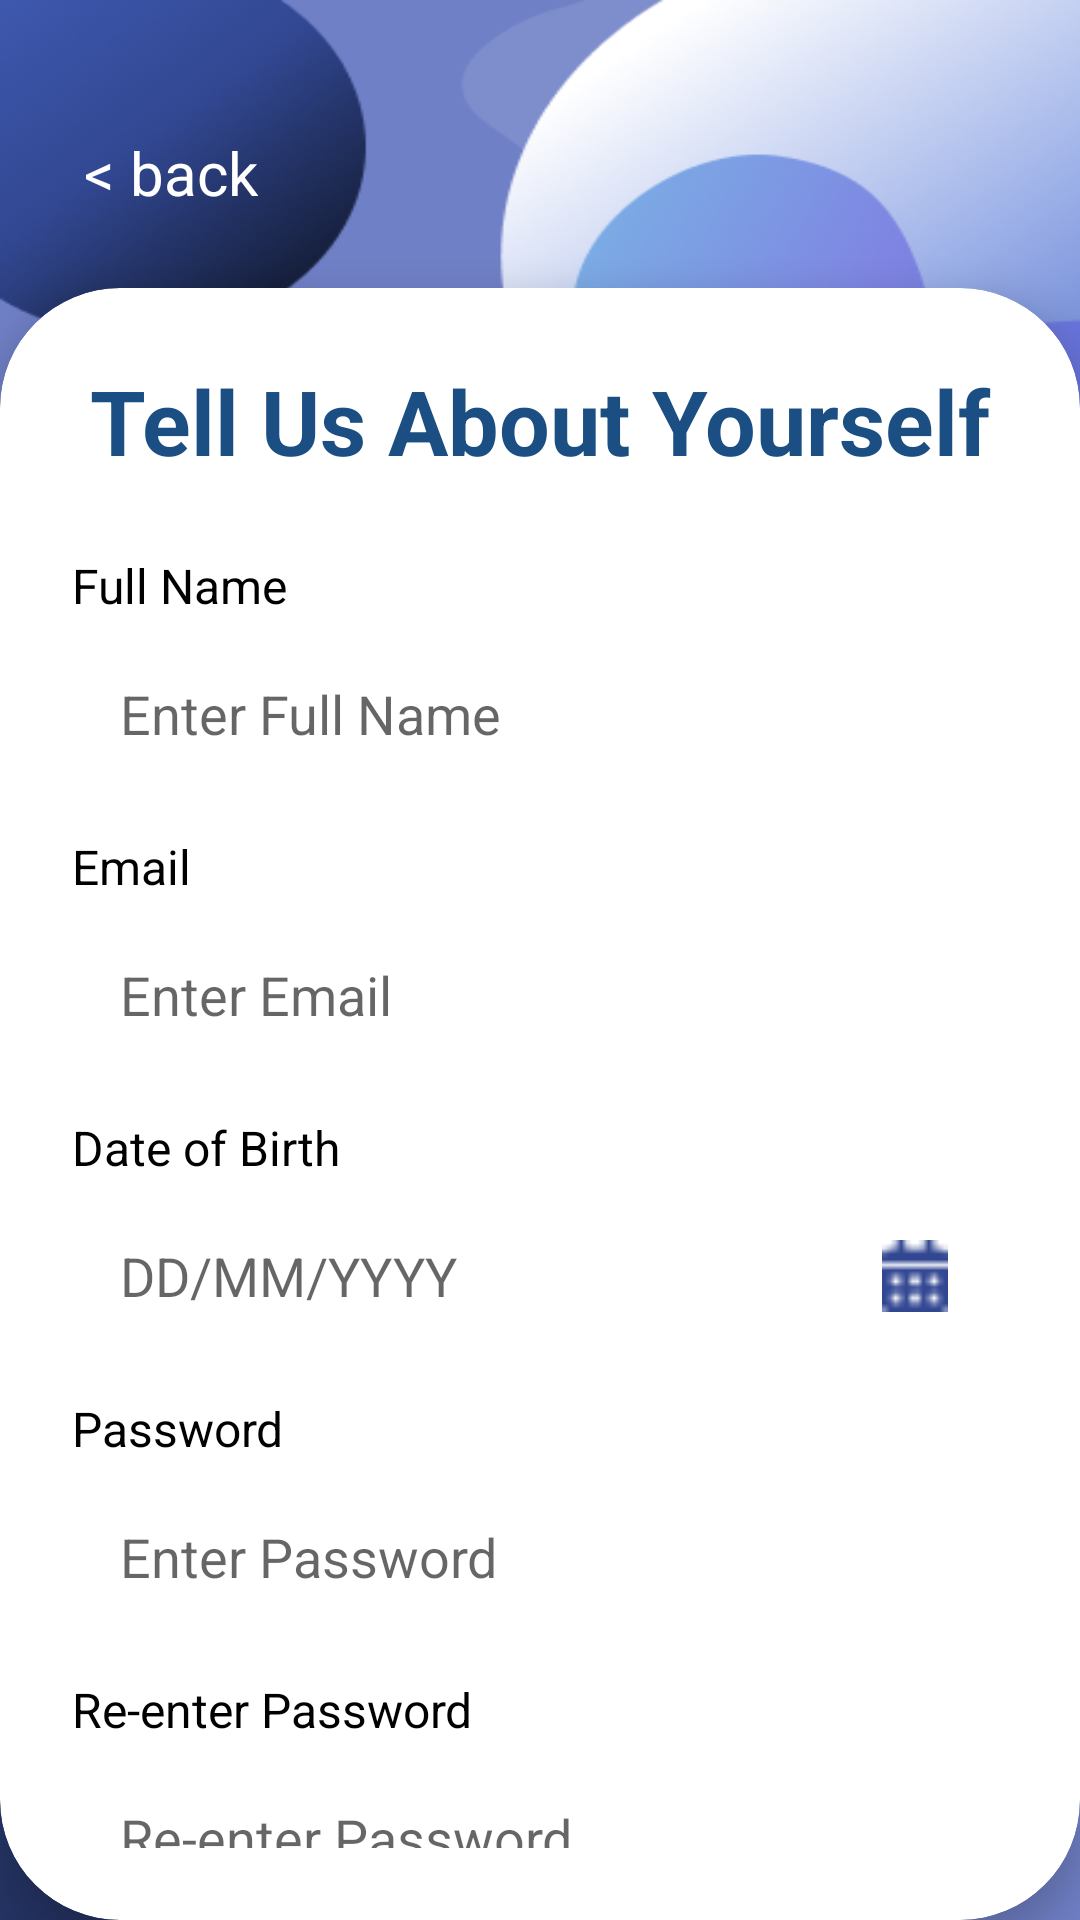

Where to tap for icons on this 1080x1920 app screen, as (x,y):
Calender Icon: (915,1276)
